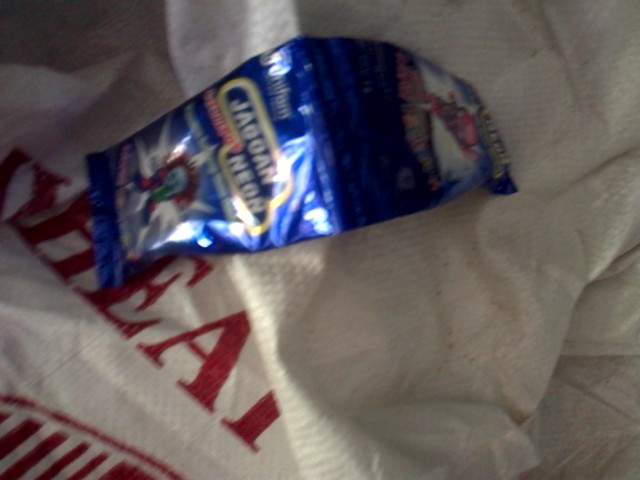jagoan neon: (87, 34, 347, 294), (327, 35, 518, 236)
